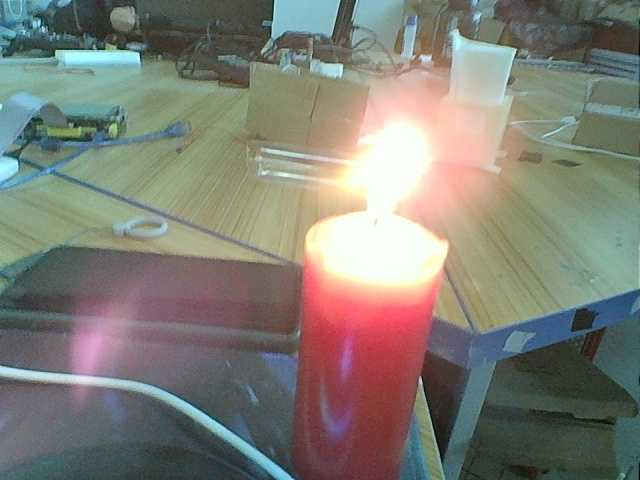candle: (284, 215, 438, 480)
fire: (342, 113, 443, 222)
